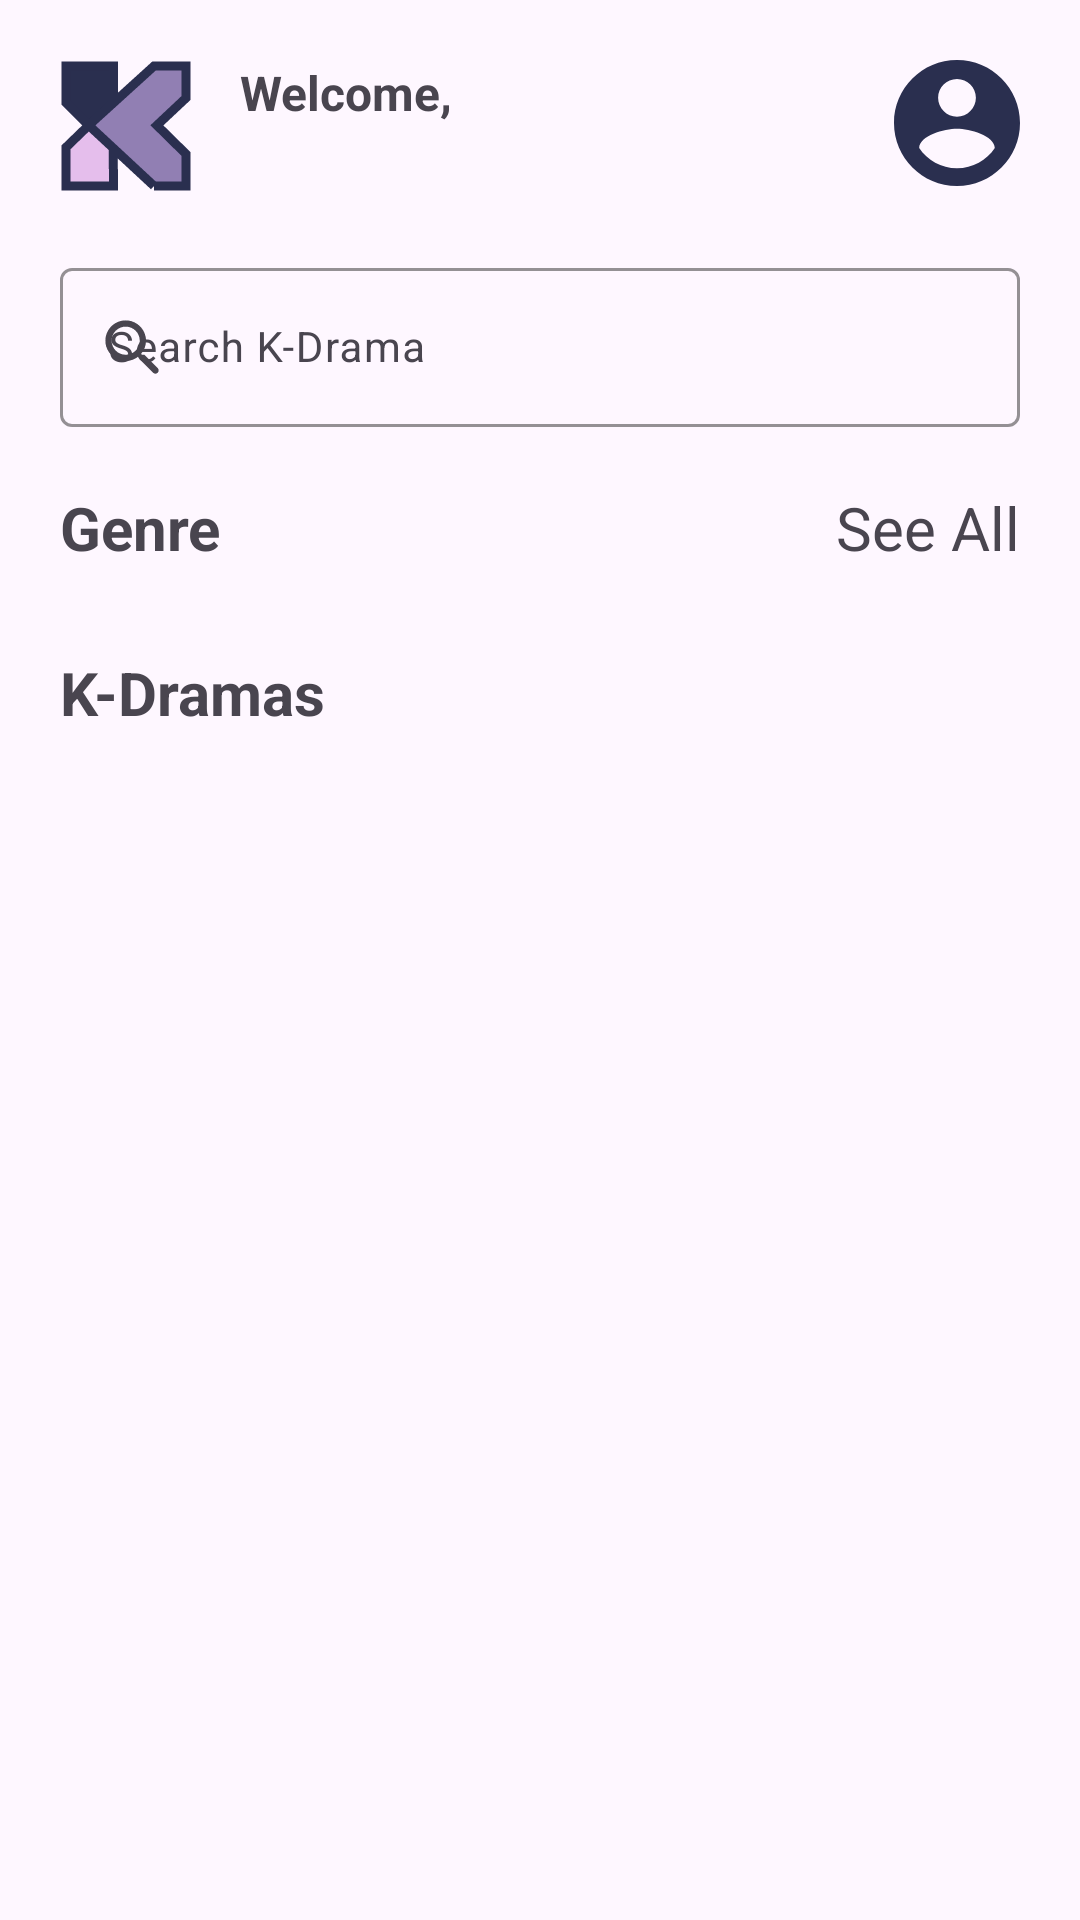

Icon click points for this 1080w x 1920h phone screenshot, format (x=x, y=y):
user account: (x=957, y=123)
